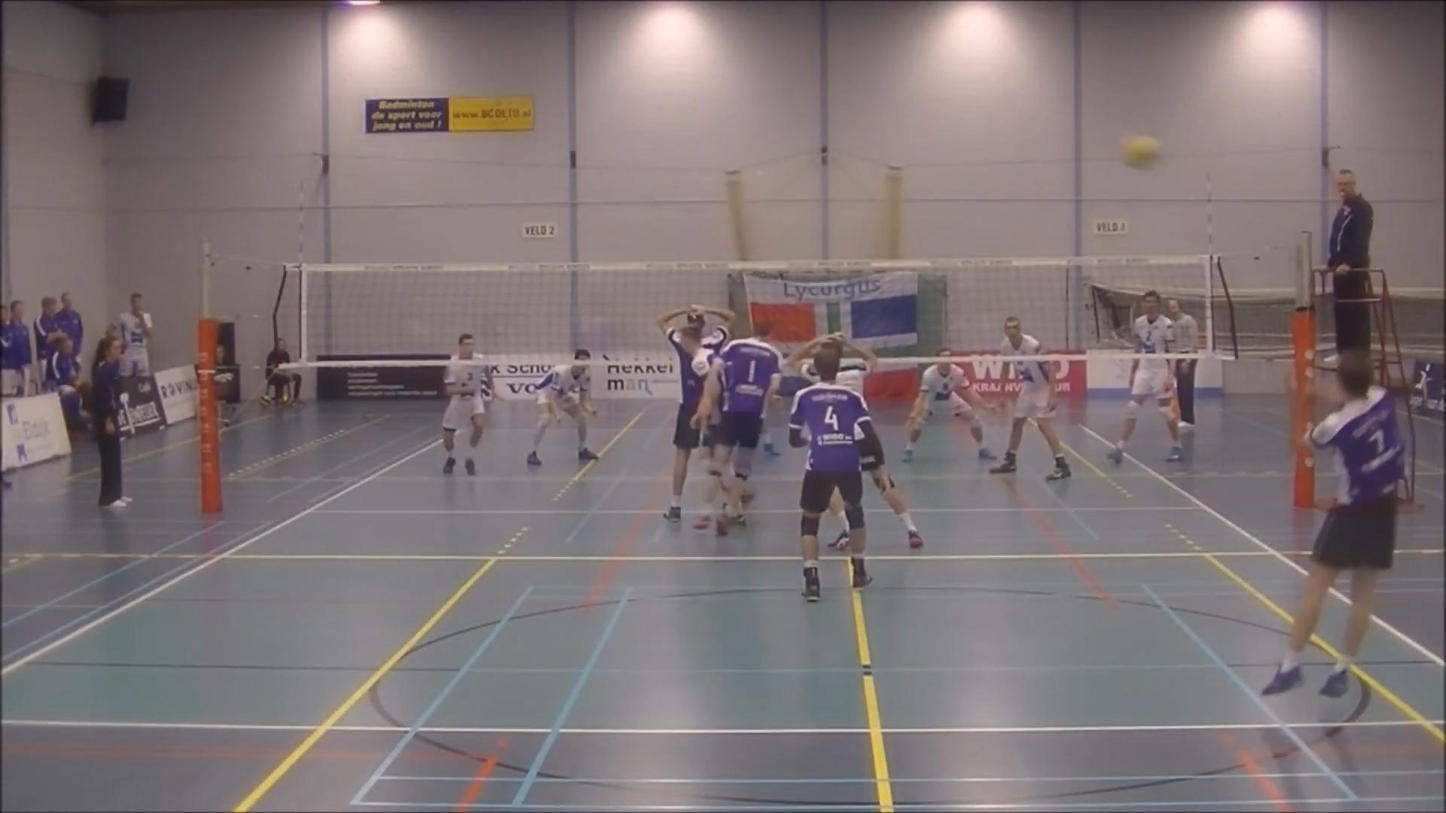battuta: (1251, 341, 1423, 696)
